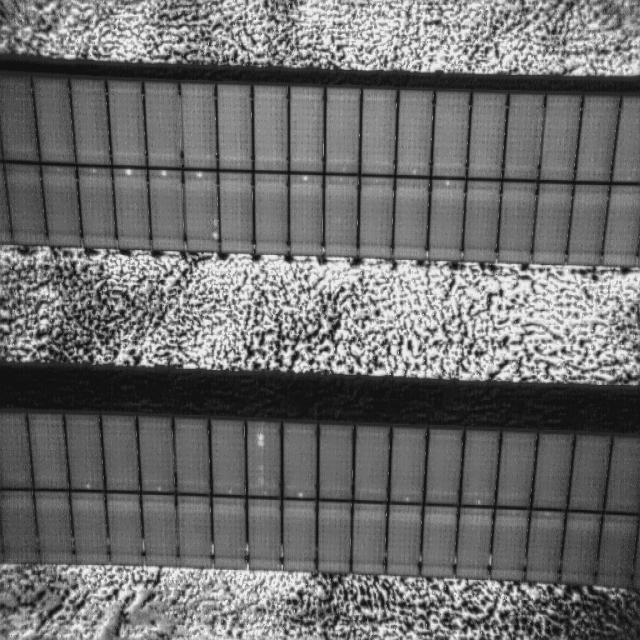hotspot: (246, 419, 283, 499), (203, 207, 223, 246)
